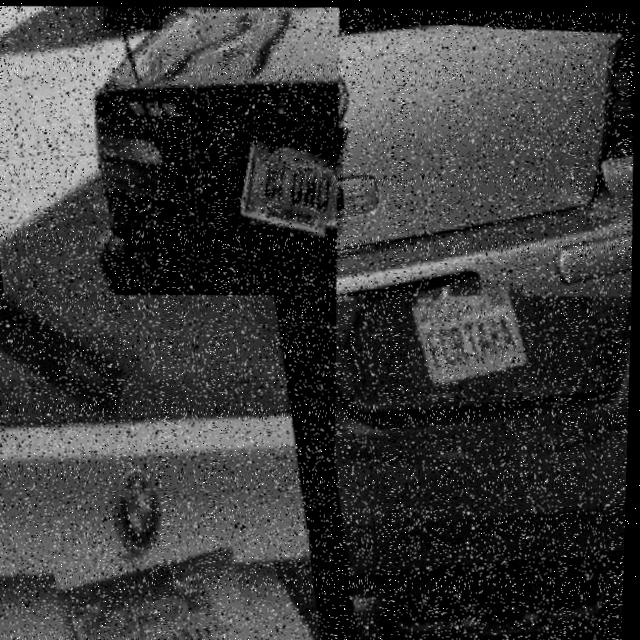LicensePlate: (56, 537, 249, 640), (232, 110, 346, 234), (412, 286, 538, 388), (103, 4, 162, 29)
